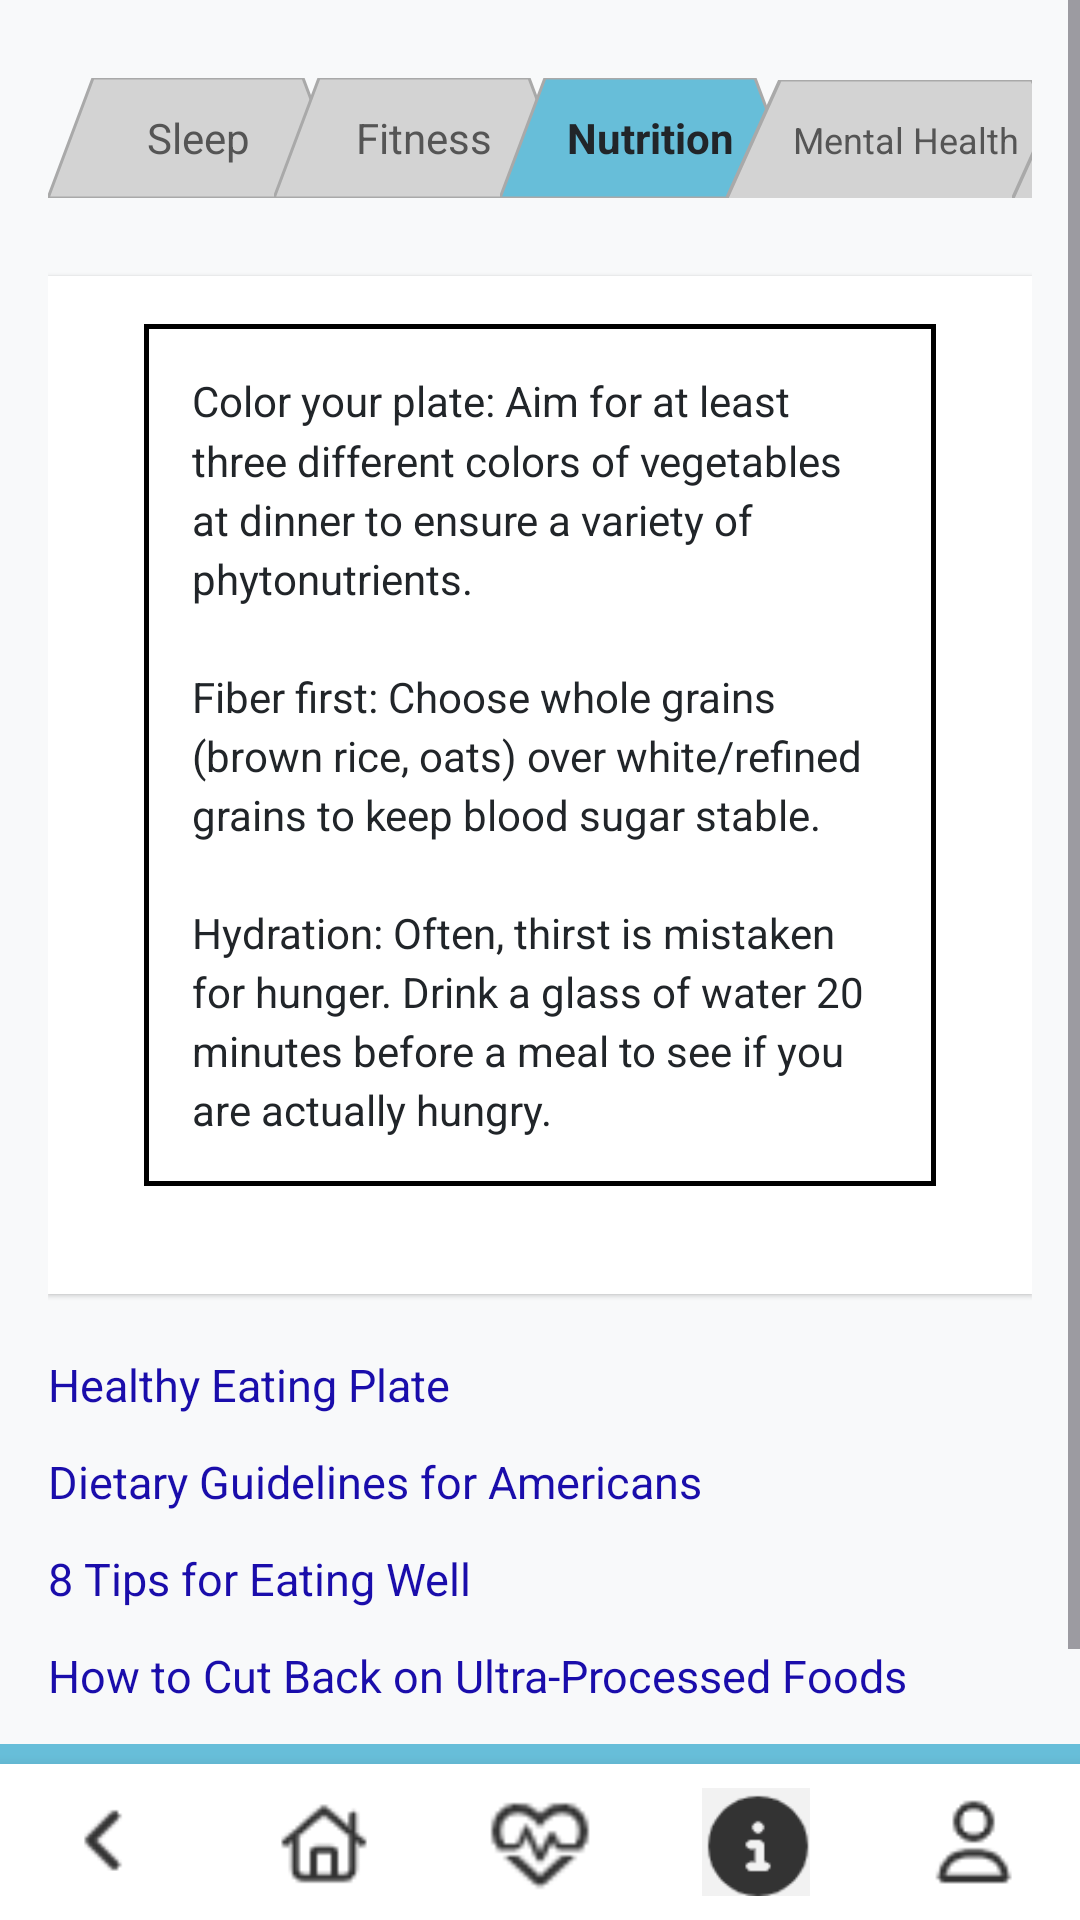

Icon click points for this 1080 × 1920 phone screenshot, format (x=x, y=y):
Home: (x=324, y=1843)
Info: (x=758, y=1845)
Profile: (x=974, y=1842)
